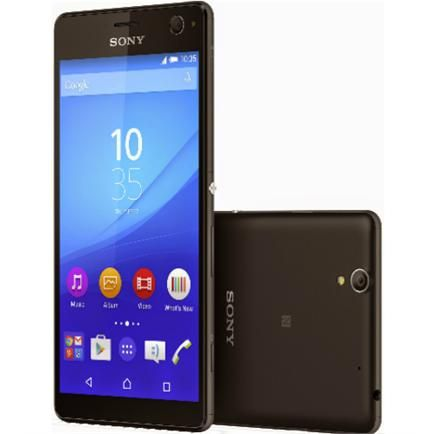mobile: (43, 10, 230, 434)
